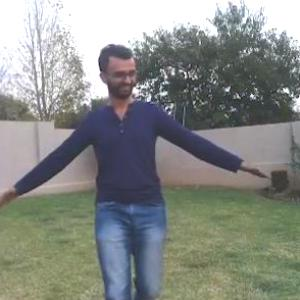land: (23, 43, 259, 299)
